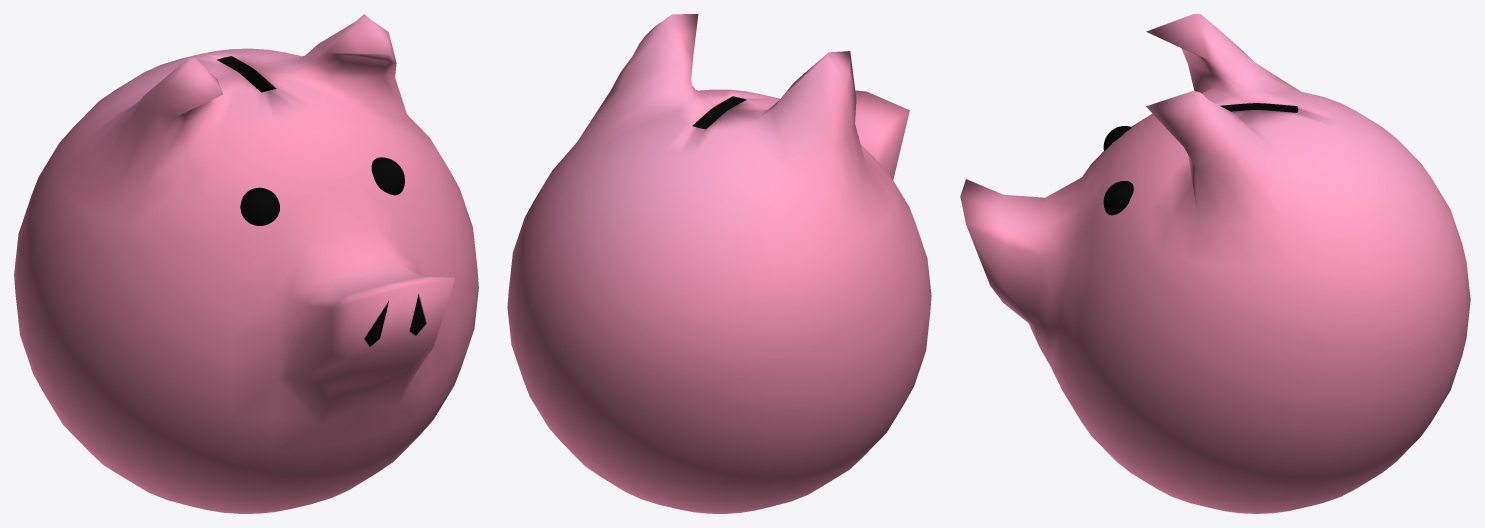
Rendered from pigballoon.fbx.
The picture shows the model from 3 angles, left to right: view 1: azimuth 30°, elevation 25°; view 2: azimuth 150°, elevation 25°; view 3: azimuth 270°, elevation 25°; orthographic projection. The views are drawn at different scales.
Visible parts, largest first — view 1: Sphere; view 2: Sphere; view 3: Sphere.
Boxes of the visible parts, left/top/right/bottom form: Sphere: left=14, top=14, right=478, bottom=513; Sphere: left=507, top=14, right=931, bottom=513; Sphere: left=960, top=14, right=1470, bottom=513.
Size of the model in its own units: 200 by 228 by 238.
